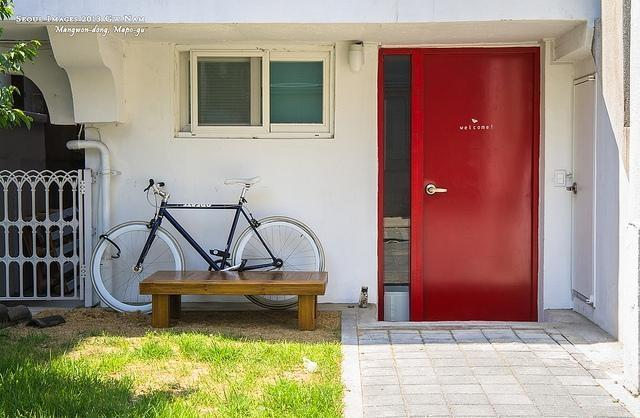bicycle: (90, 178, 325, 314)
